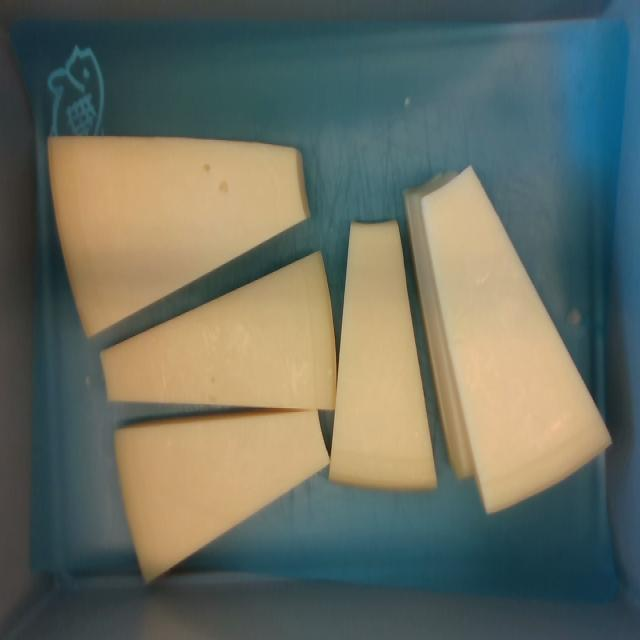Cheese: (421, 164, 610, 512), (49, 137, 308, 335), (99, 252, 335, 409), (116, 413, 326, 580), (330, 224, 433, 487)
